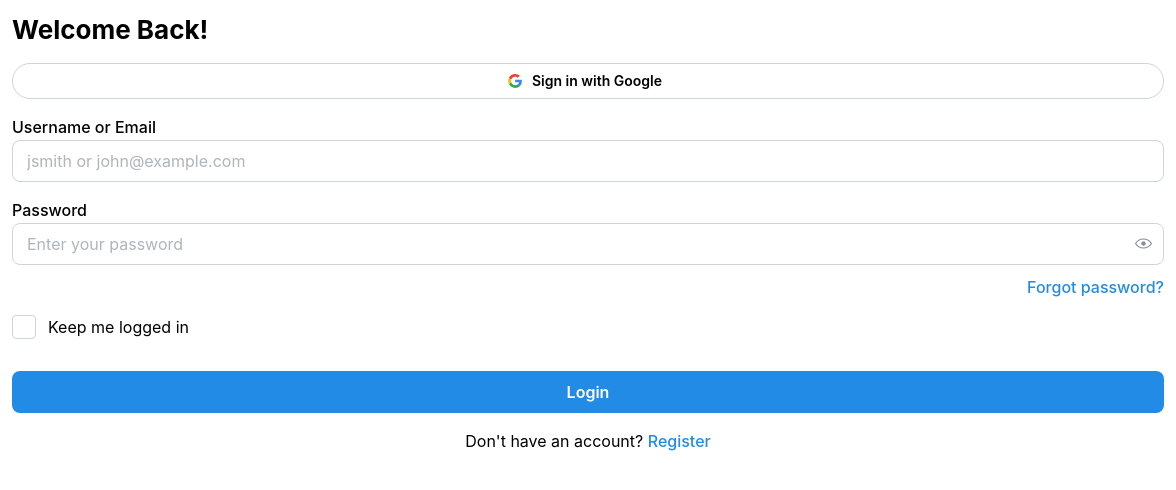
LoginForm › Login Form Functionality › Form Validation › Shows error for password too short
Note: Fill in the form with invalid password
In the field labelled "Username or Email": (588, 161) [12, 140, 1164, 182], type "validUser"
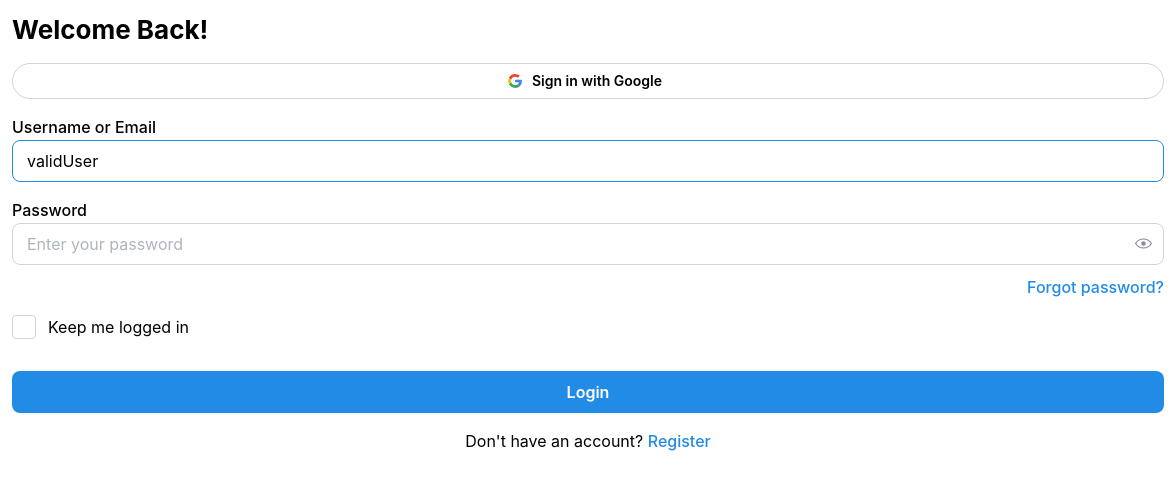
In the password field labelled "Password": (588, 244) [13, 224, 1163, 264], type "12345"
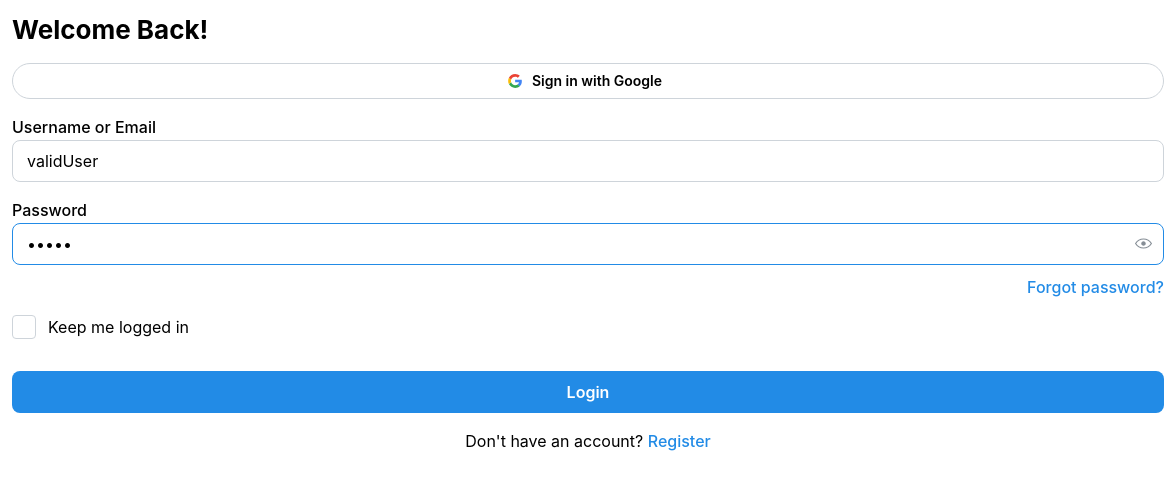
Click the button "Login": click(588, 392) [12, 372, 1164, 414]
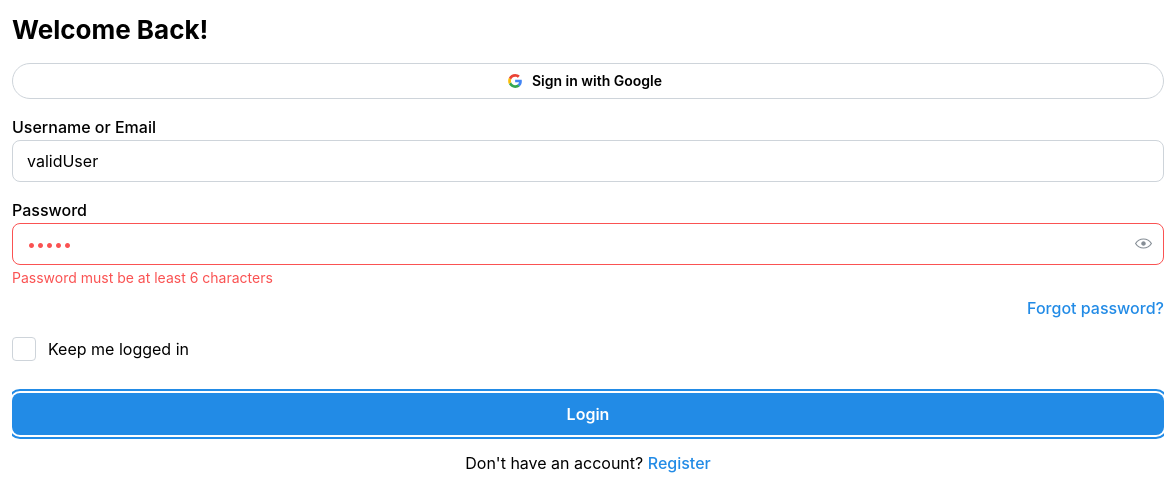
Now the text "Password must be at least 6 characters" is shown, box [12, 269, 273, 286]
